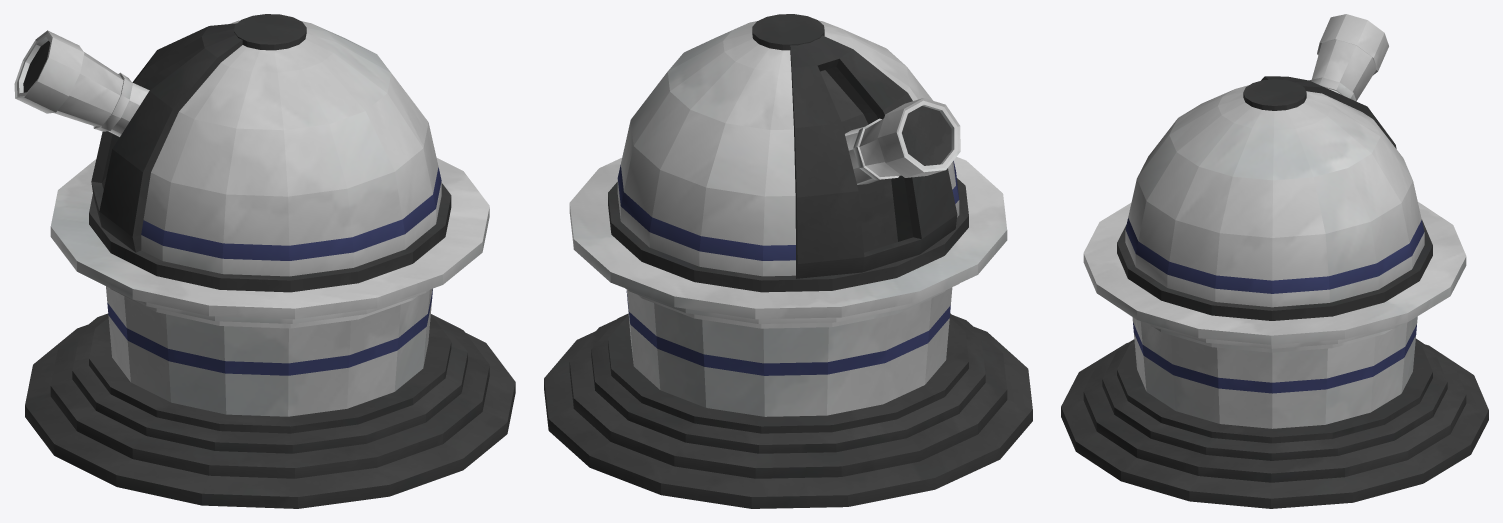
File: Observatory.glb
The picture shows the model from 3 angles, left to right: view 1: azimuth 30°, elevation 25°; view 2: azimuth 150°, elevation 25°; view 3: azimuth 270°, elevation 25°; orthographic projection. The views are drawn at different scales.
Parts seen in each view (by area): view 1: Observatory; view 2: Observatory; view 3: Observatory.
Part boxes in pixels (x1,y1,x2,y2): Observatory: (14, 14, 515, 508); Observatory: (544, 14, 1032, 508); Observatory: (1061, 14, 1488, 508).
Bounding box in the file's own units: 257 × 218 × 257.
1 material, 1 textured.
